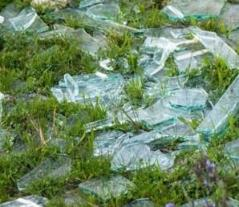glass: (92, 128, 188, 172), (48, 69, 124, 105)
